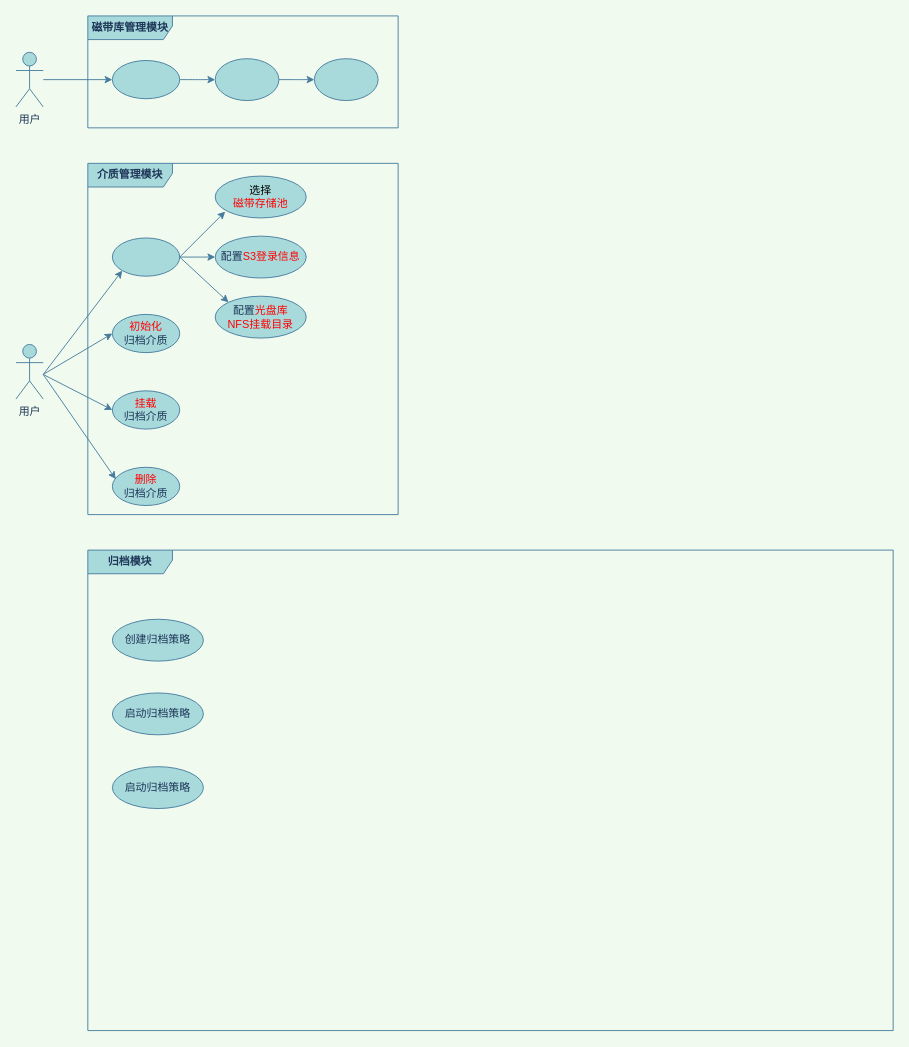
The diagram is 909 pixels wide and 1047 high, and some of its shapes have lost their labels. The shapes that lost their labels are listed below. From the top down, each one's centre as x and y in pixels, then its label:
At pixel 145 79: "磁带库 扫描 添加".
At pixel 246 79: "配置 驱动器序列号".
At pixel 345 79: "创建 磁带存储池".
At pixel 145 256: "添加 归档介质".
